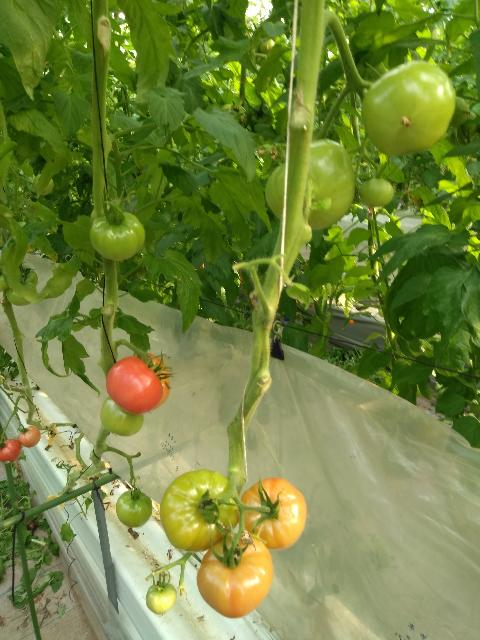b_fully_ripened: (106, 356, 163, 415), (0, 439, 22, 463)
b_green: (361, 60, 457, 156), (302, 139, 355, 230), (89, 211, 145, 262), (100, 396, 144, 436), (116, 490, 153, 527), (265, 163, 285, 222), (146, 582, 177, 615), (359, 179, 394, 208), (6, 279, 37, 306), (18, 264, 38, 288)
b_half_ripened: (160, 469, 241, 552), (196, 533, 273, 619), (238, 477, 306, 550), (134, 353, 170, 411), (17, 426, 41, 448)
